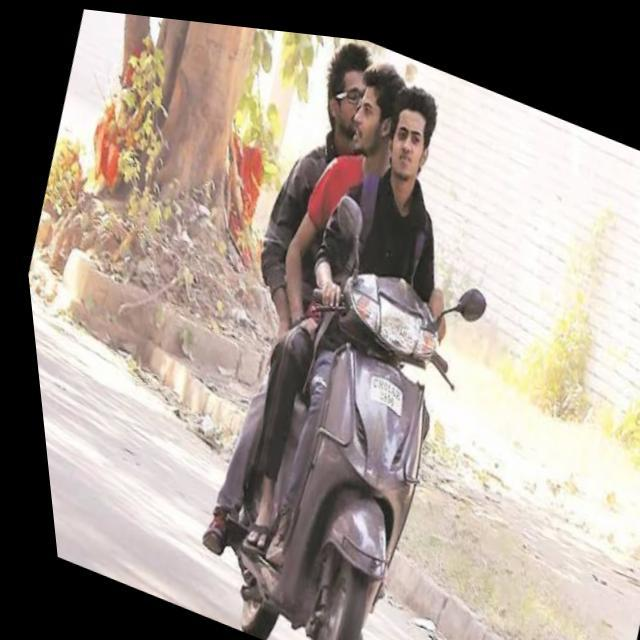Nonhelmet: (377, 82, 449, 184), (348, 60, 408, 161)
